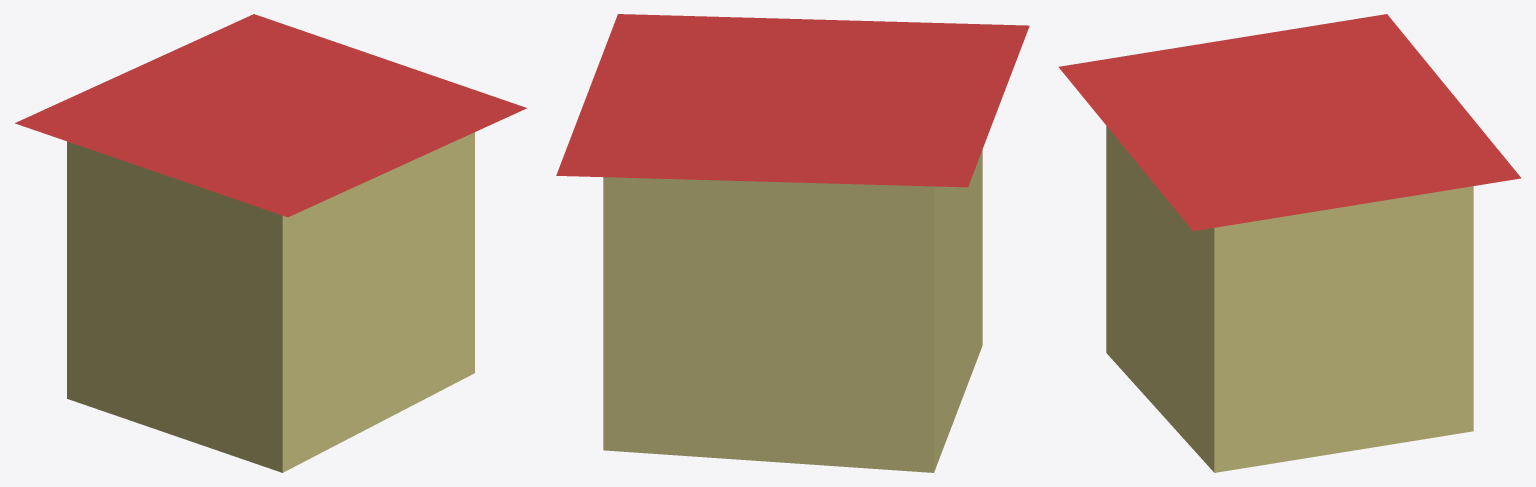
3 views of the same model, side by side, from view 1: azimuth 30°, elevation 25°; view 2: azimuth 150°, elevation 25°; view 3: azimuth 270°, elevation 25° (orthographic). The views are drawn at different scales.
Bounding box in the file's own units: 9.62 × 9.32 × 6.14.
